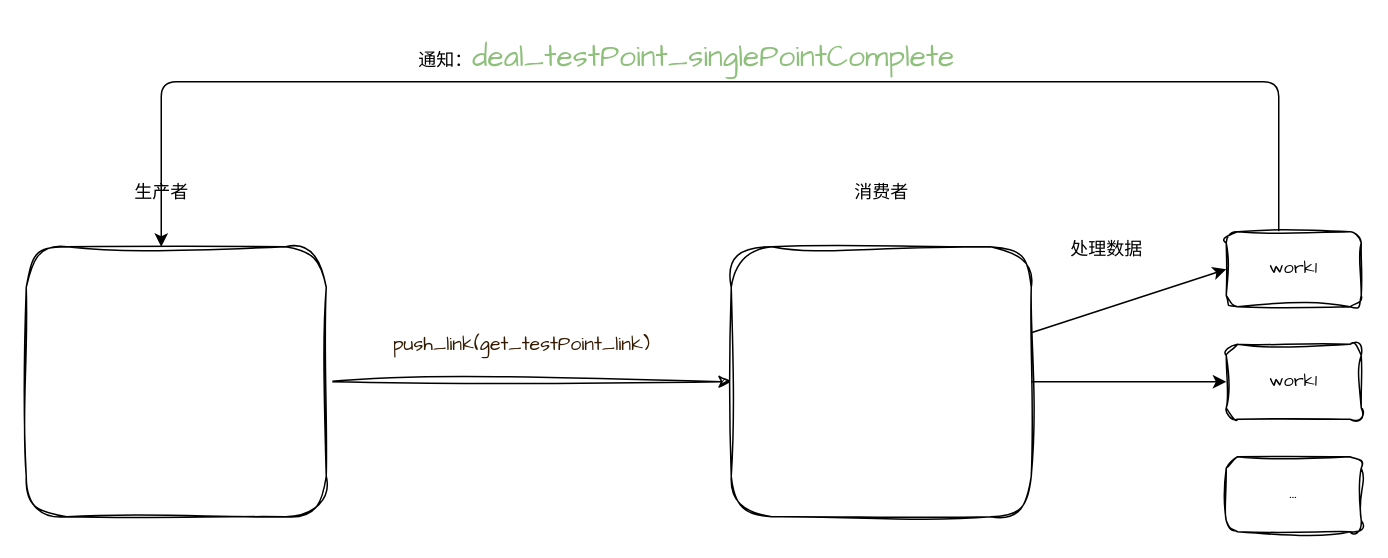
This 1388x558 diagram has some shape labels left out. The shapes that lost their labels are listed below. From the top down, each one's box as (x1, y1, x2, y2) in pixels, then its label:
(25, 245, 326, 517): testBox
(730, 245, 1031, 517): testPointBox
